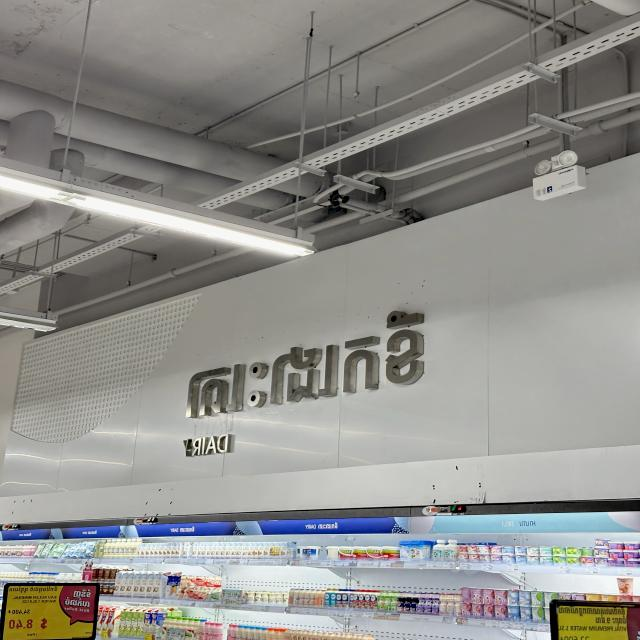Yolov11kh: (178, 300, 452, 421)
